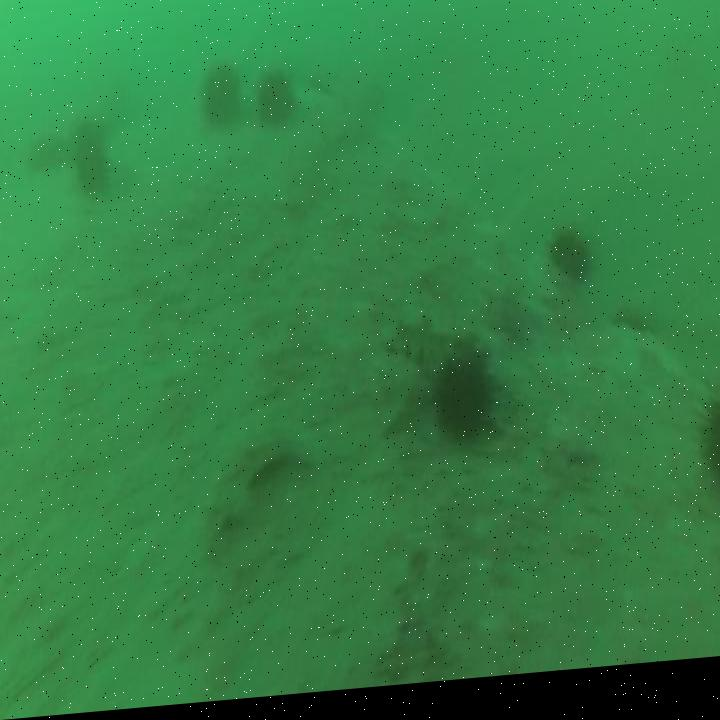echinus: (424, 340, 502, 468), (62, 113, 115, 206), (544, 223, 597, 305), (250, 64, 301, 144), (194, 56, 244, 134), (694, 387, 720, 506)
